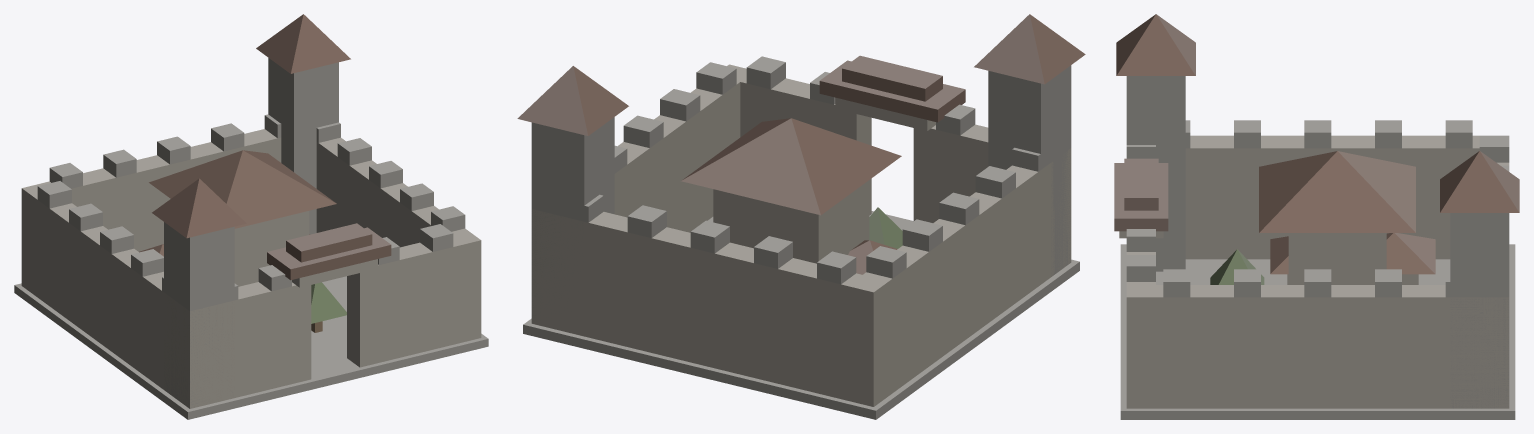
The model's file is commandery.gltf.
3 renders of one model, left to right at view 1: azimuth 30°, elevation 25°; view 2: azimuth 150°, elevation 25°; view 3: azimuth 270°, elevation 25°, orthographic. The views are drawn at different scales.
Parts seen in each view (by area): view 1: building-commandery; view 2: building-commandery; view 3: building-commandery.
Boxes of the visible parts, bbox=[...] form: building-commandery: bbox=[14, 14, 488, 419]; building-commandery: bbox=[517, 14, 1085, 419]; building-commandery: bbox=[1114, 14, 1519, 419].
Size of the model in its own units: 0.822 by 0.572 by 0.826.
